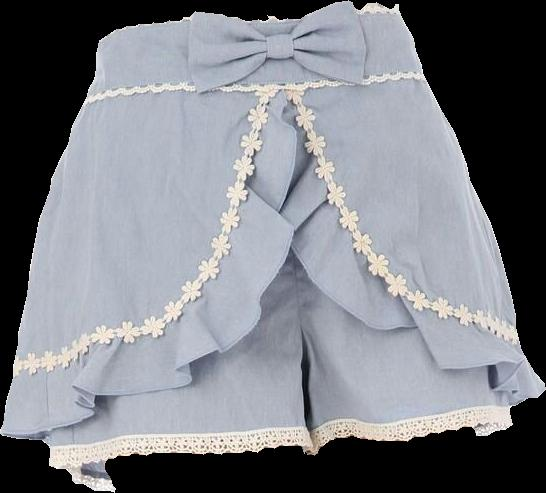Hemline: (0, 86, 297, 440), (280, 88, 545, 400), (314, 419, 512, 450), (46, 443, 320, 465)
Pantleg: (0, 12, 313, 492), (284, 1, 545, 454)
Waistline: (96, 5, 399, 44), (83, 71, 424, 102)
